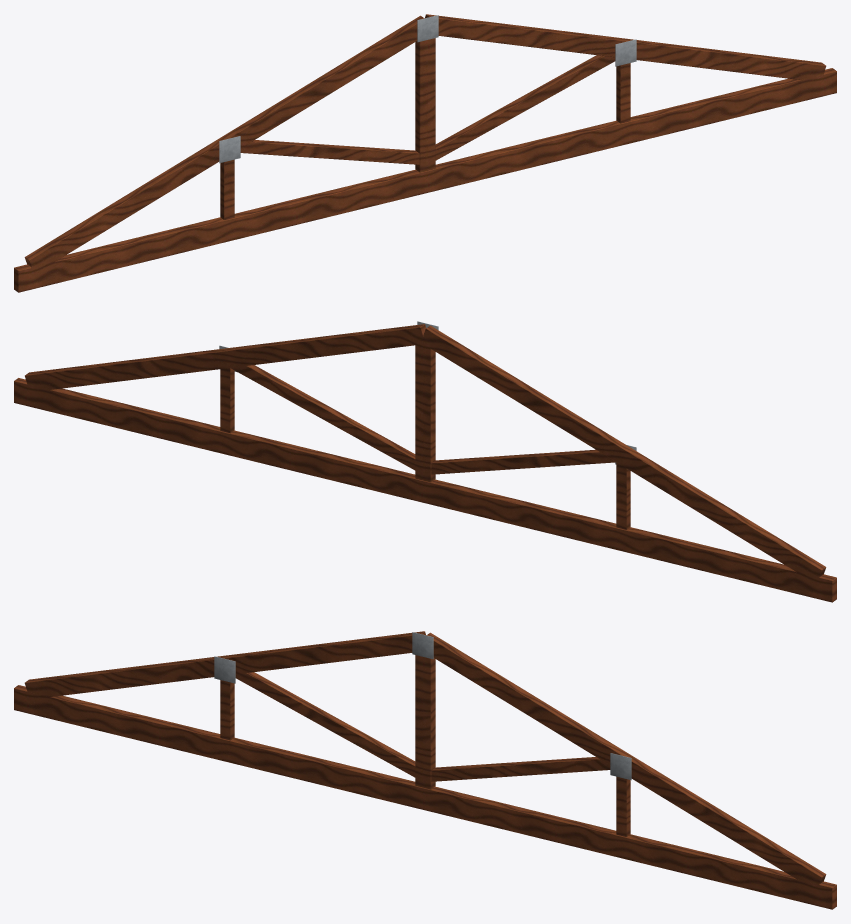
Rendered from COB-MAD-004.glb.
3 views of the same model, one above another, from view 1: azimuth 30°, elevation 25°; view 2: azimuth 150°, elevation 25°; view 3: azimuth 330°, elevation 25° (orthographic).
Parts seen in each view (by area): view 1: COB-MAD-004_linha, COB-MAD-004_perna_e, COB-MAD-004_perna_d, COB-MAD-004_escora1, COB-MAD-004_pendural, COB-MAD-004_escora-1, COB-MAD-004_asna-1, COB-MAD-004_asna1; view 2: COB-MAD-004_linha, COB-MAD-004_perna_e, COB-MAD-004_perna_d, COB-MAD-004_escora1, COB-MAD-004_pendural, COB-MAD-004_escora-1, COB-MAD-004_asna1, COB-MAD-004_asna-1; view 3: COB-MAD-004_linha, COB-MAD-004_perna_d, COB-MAD-004_perna_e, COB-MAD-004_escora-1, COB-MAD-004_pendural, COB-MAD-004_escora1, COB-MAD-004_asna1, COB-MAD-004_asna-1.
Part boxes in pixels (x1,y1,x2,y2): COB-MAD-004_linha: (14,68,836,292); COB-MAD-004_perna_e: (24,15,424,267); COB-MAD-004_perna_d: (425,14,826,79); COB-MAD-004_escora1: (435,55,615,160); COB-MAD-004_pendural: (415,38,435,172); COB-MAD-004_escora-1: (240,140,419,164); COB-MAD-004_asna-1: (220,159,234,219); COB-MAD-004_asna1: (616,63,630,123); COB-MAD-004_linha: (14,378,836,602); COB-MAD-004_perna_e: (423,325,826,583); COB-MAD-004_perna_d: (25,324,425,392); COB-MAD-004_escora1: (231,365,415,470); COB-MAD-004_pendural: (415,340,435,482); COB-MAD-004_escora-1: (431,449,615,474); COB-MAD-004_asna1: (220,368,234,433); COB-MAD-004_asna-1: (616,462,630,529); COB-MAD-004_linha: (14,685,836,909); COB-MAD-004_perna_d: (426,632,826,884); COB-MAD-004_perna_e: (24,631,425,696); COB-MAD-004_escora-1: (235,672,415,777); COB-MAD-004_pendural: (415,655,435,789); COB-MAD-004_escora1: (431,757,610,781); COB-MAD-004_asna1: (616,776,630,836); COB-MAD-004_asna-1: (220,680,234,740).
Size of the model in its own units: 6.2 by 1.27 by 0.064.
Materials: 2 (2 with a texture image).
